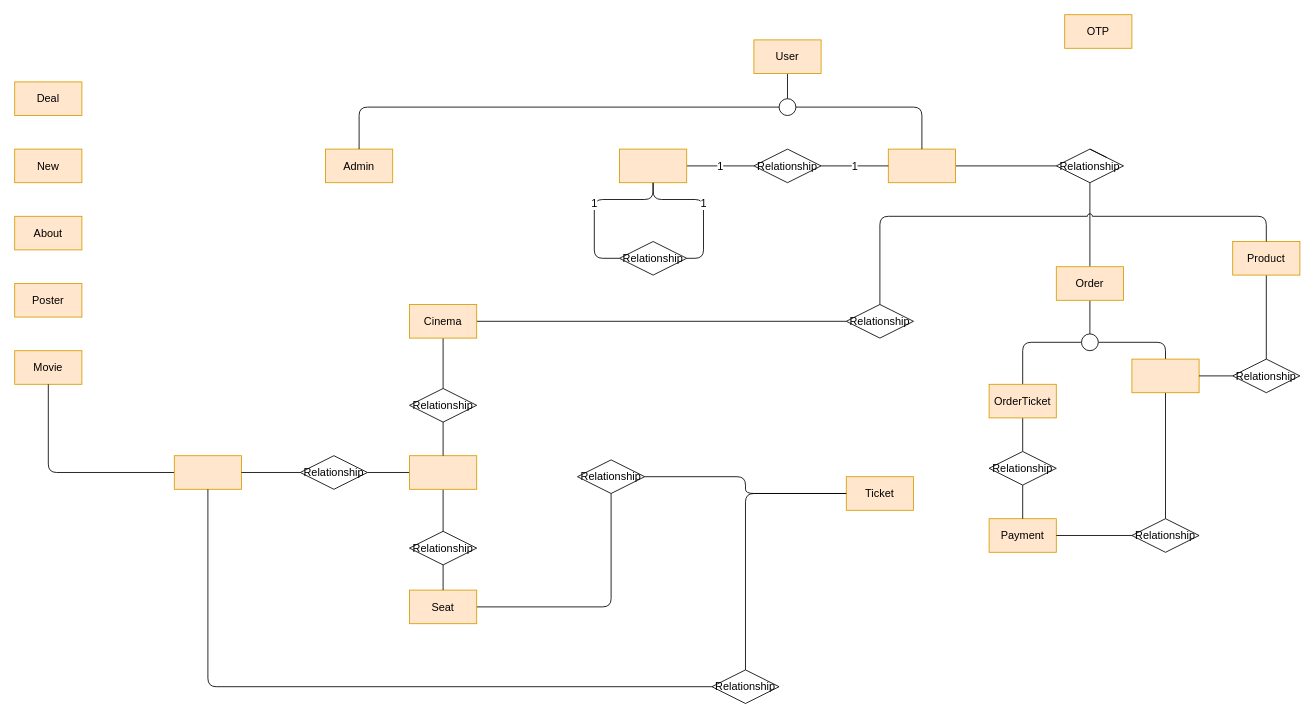
This 1315x718 diagram has some shape labels left out. The centre of each missing label's shape, as x and y in pixels:
"Customer" belongs at pixel 921 165.
"FAQ" belongs at pixel 653 165.
"OrderProduct" belongs at pixel 1165 375.
"Room" belongs at pixel 443 472.
"Schedule" belongs at pixel 207 472.
